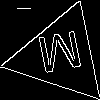M: (35, 30, 87, 83)
